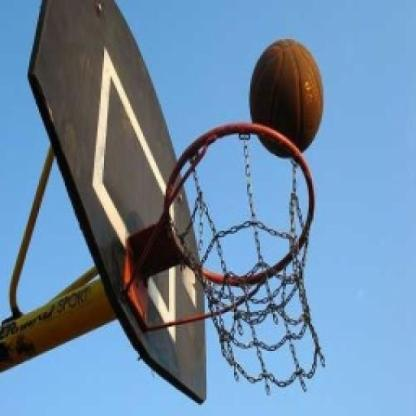basketball: (242, 31, 326, 159)
